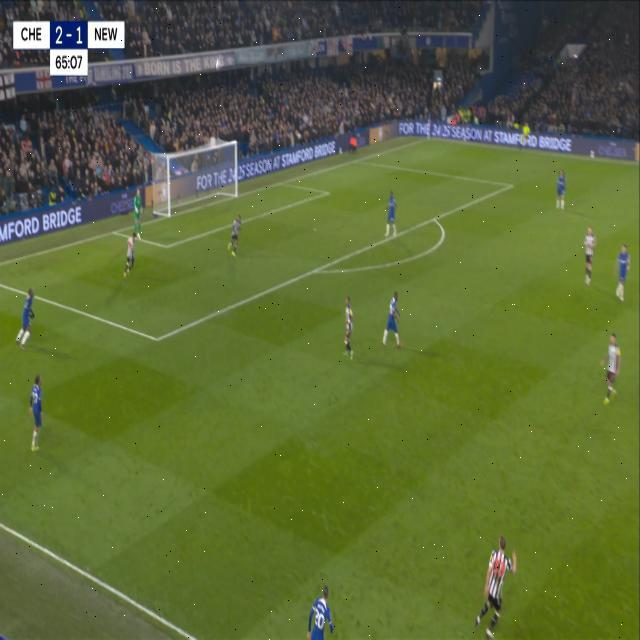Ball: (214, 57, 224, 73)
Chelsea: (304, 579, 336, 637), (26, 368, 47, 454), (14, 281, 38, 352), (380, 286, 405, 352), (613, 240, 630, 305), (382, 184, 400, 240), (554, 163, 568, 214)
Chelsea Keeper: (132, 187, 144, 240)
Newcastle: (472, 530, 520, 638), (596, 329, 625, 407), (486, 548, 514, 606), (581, 222, 598, 290), (341, 292, 357, 364), (122, 227, 142, 281), (226, 208, 243, 262)
